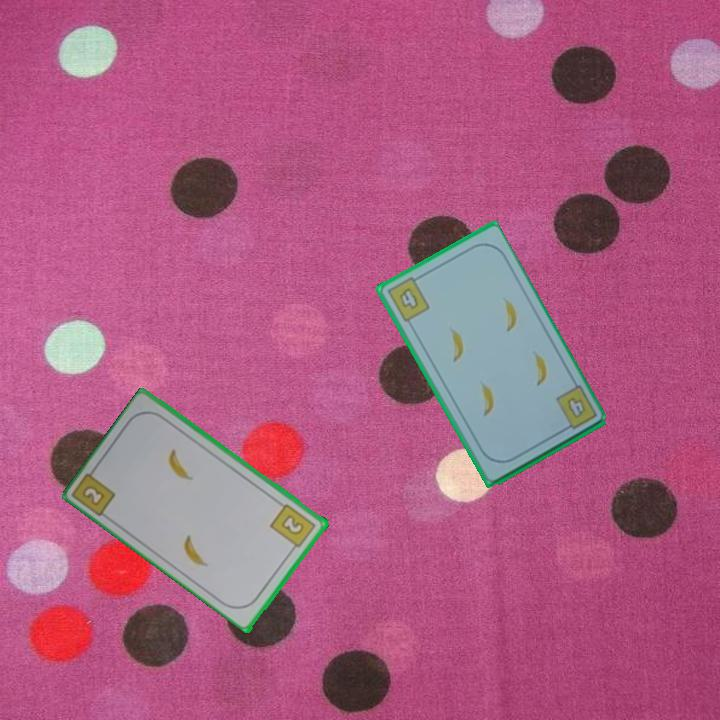2b: (267, 500, 319, 554), (81, 484, 108, 509)
4b: (383, 272, 433, 325), (552, 382, 600, 434)
